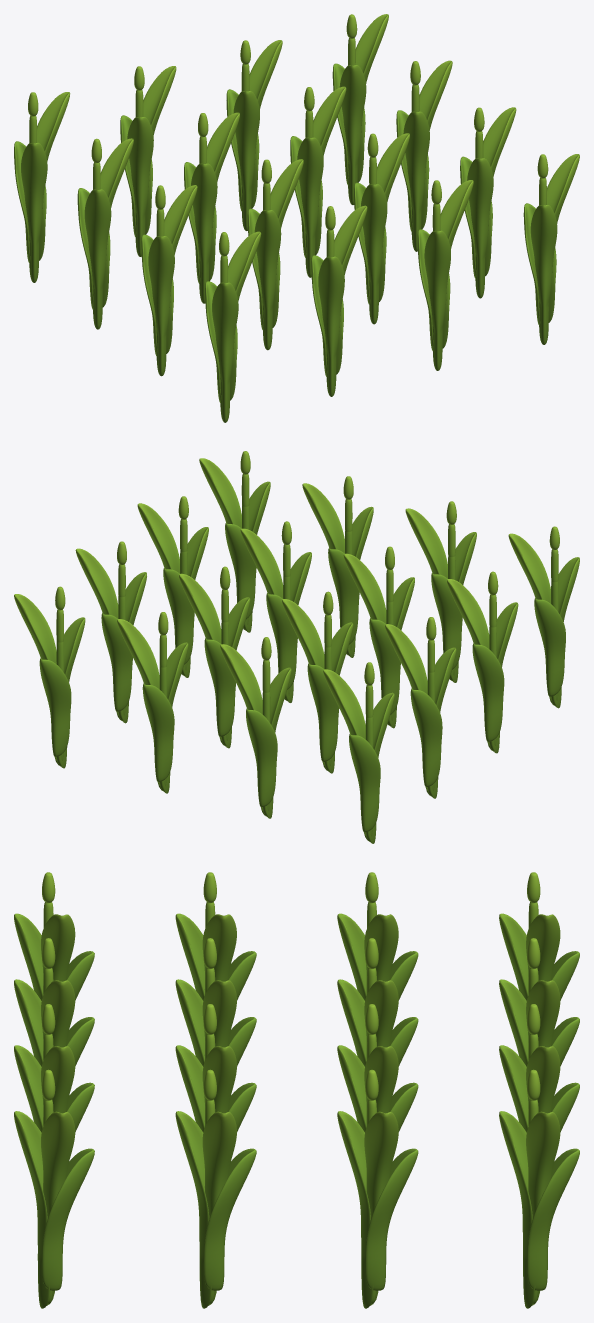
File: CornStage2.fbx
The picture shows the model from 3 angles, top to bottom: view 1: azimuth 30°, elevation 25°; view 2: azimuth 150°, elevation 25°; view 3: azimuth 270°, elevation 25°; orthographic projection. The views are drawn at different scales.
Parts seen in each view (by area): view 1: Corn_2; view 2: Corn_2; view 3: Corn_2.
Part boxes in pixels (box(x1,y1,x2,y2)): Corn_2: box(14, 14, 579, 422); Corn_2: box(14, 451, 579, 843); Corn_2: box(14, 872, 579, 1308).
Bounding box in the file's own units: 79.42 × 38 × 81.83.
